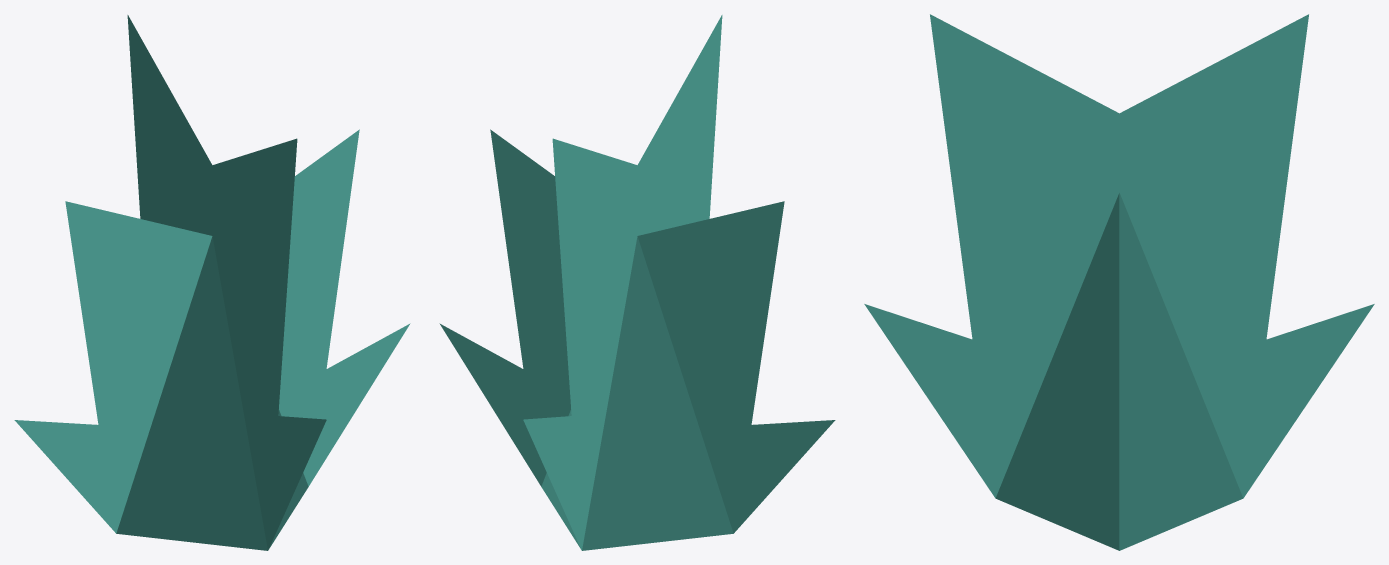
Rendered from plant_flatSmall.obj.
The picture shows the model from 3 angles, left to right: view 1: azimuth 30°, elevation 25°; view 2: azimuth 150°, elevation 25°; view 3: azimuth 270°, elevation 25°; orthographic projection. The views are drawn at different scales.
Visible parts, largest first — view 1: plant_flatSmall; view 2: plant_flatSmall; view 3: plant_flatSmall.
Boxes of the visible parts, x1,y1,x2,y2 form: plant_flatSmall: [14, 15, 410, 550]; plant_flatSmall: [439, 15, 835, 550]; plant_flatSmall: [864, 14, 1374, 550].
Size of the model in its own units: 2.72 by 2.84 by 2.72.
